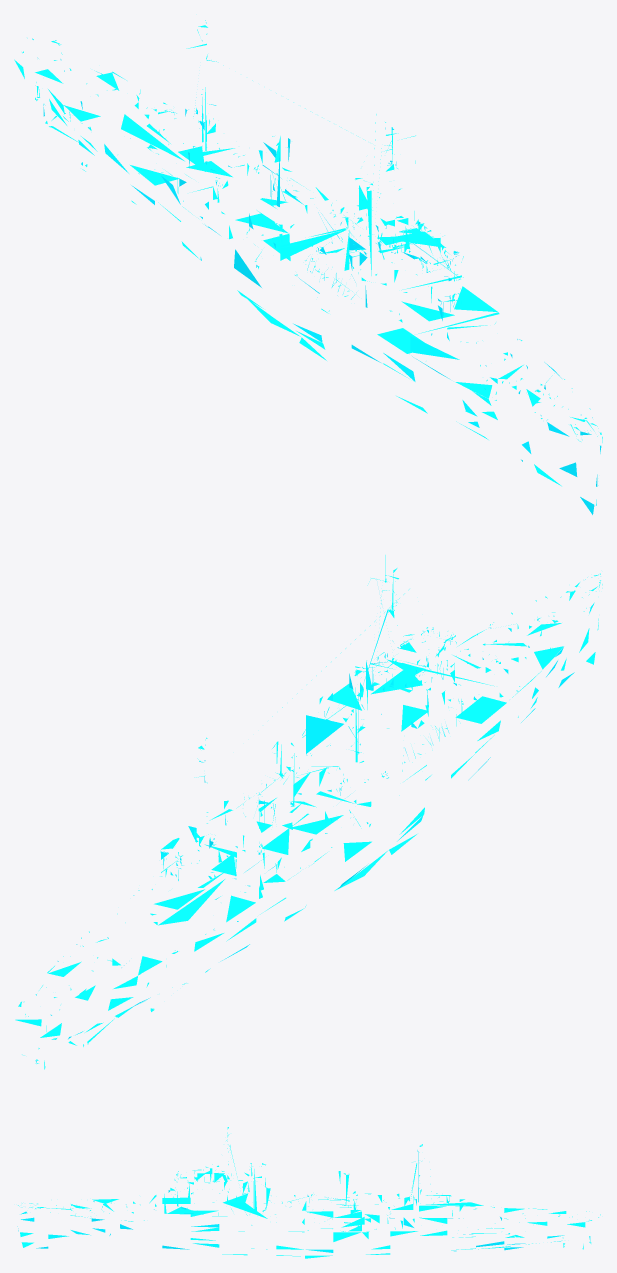
Rendered from Uganda.glb.
3 views of the same model, one above another, from view 1: azimuth 30°, elevation 25°; view 2: azimuth 150°, elevation 25°; view 3: azimuth 270°, elevation 25° (orthographic). The views are drawn at different scales.
Bounding box in the file's own units: 1.29 × 2.98 × 11.29.
